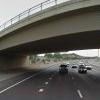Bridge: (7, 1, 98, 60)
